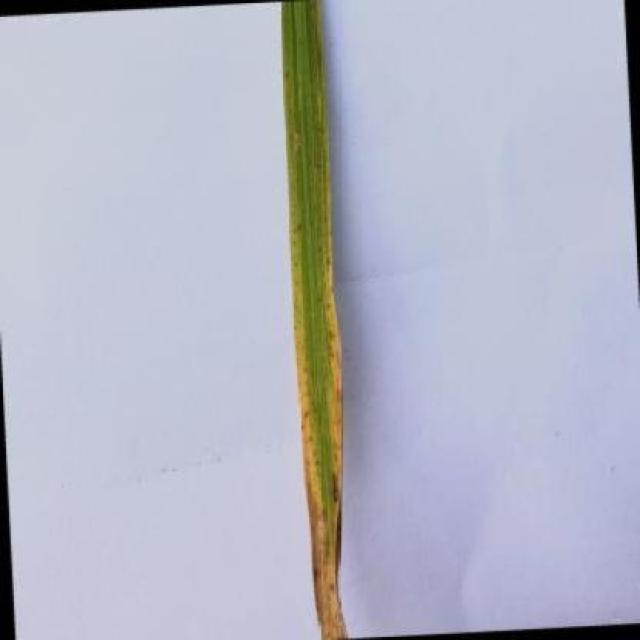Rice False Smut: (269, 0, 376, 637)
